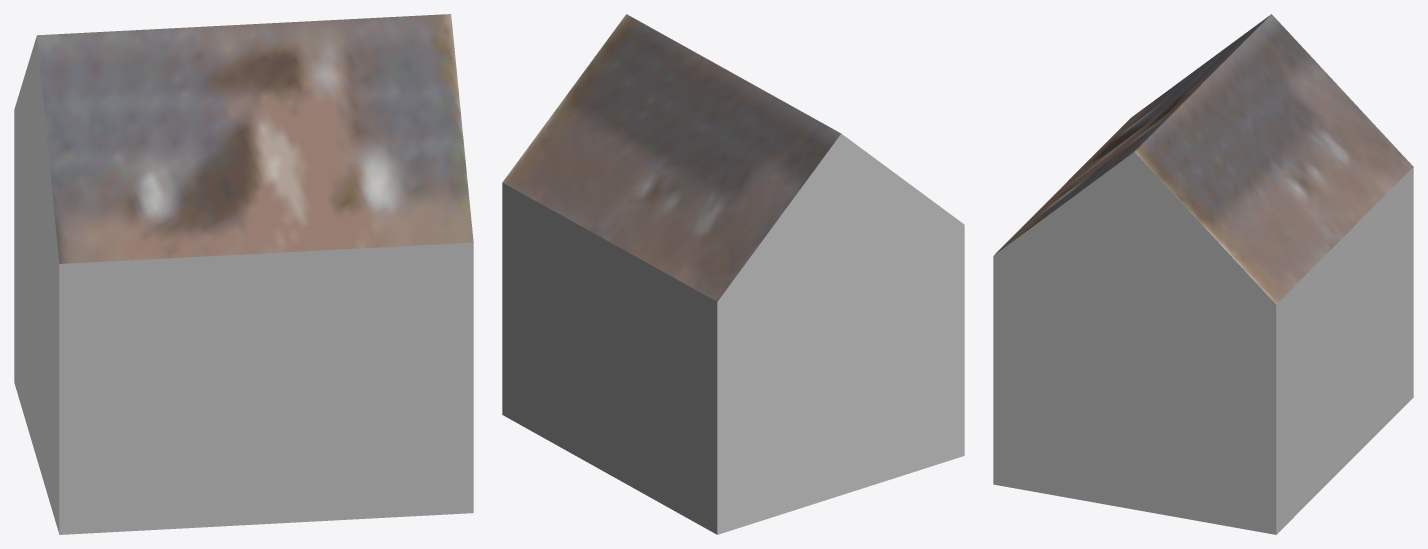
The model's file is DEBW_0010007Txd0.gltf.
3 renders of one model, left to right at view 1: azimuth 30°, elevation 25°; view 2: azimuth 150°, elevation 25°; view 3: azimuth 270°, elevation 25°, orthographic. The views are drawn at different scales.
Visible parts, largest first — view 1: Z_UP; view 2: Z_UP; view 3: Z_UP.
Part boxes in pixels (x1,y1,x2,y2): Z_UP: [14, 14, 473, 534]; Z_UP: [502, 14, 964, 534]; Z_UP: [993, 14, 1413, 534].
Bounding box in the file's own units: 14.64 × 13.02 × 13.84.
2 materials, 1 textured.
